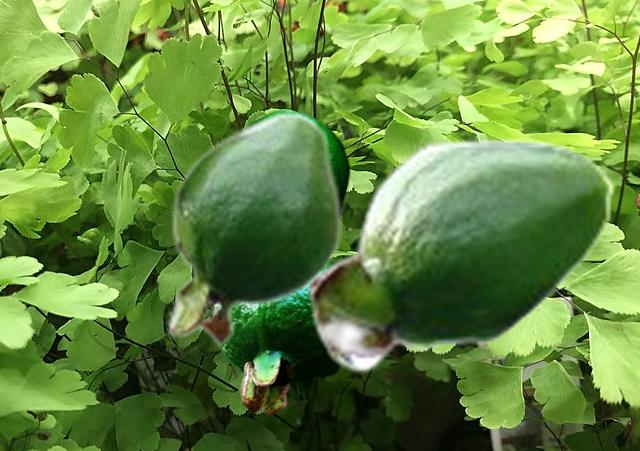guava: (307, 136, 615, 373), (166, 110, 341, 347), (217, 291, 340, 416), (249, 108, 350, 213)
